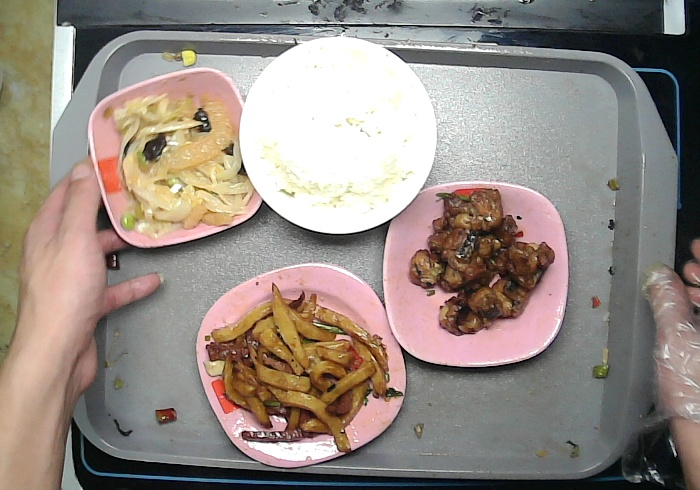SHKJ-Fan_Wan: (236, 34, 439, 237)
SHKJ-Fen_Se_Cai_Die: (379, 179, 575, 372)
SHKJ-Fen_Se_Si_Fang_Cai_Die: (192, 260, 409, 466)
SHKJ-Fen_Se_Xiao_Fang_Die: (84, 66, 269, 249)
